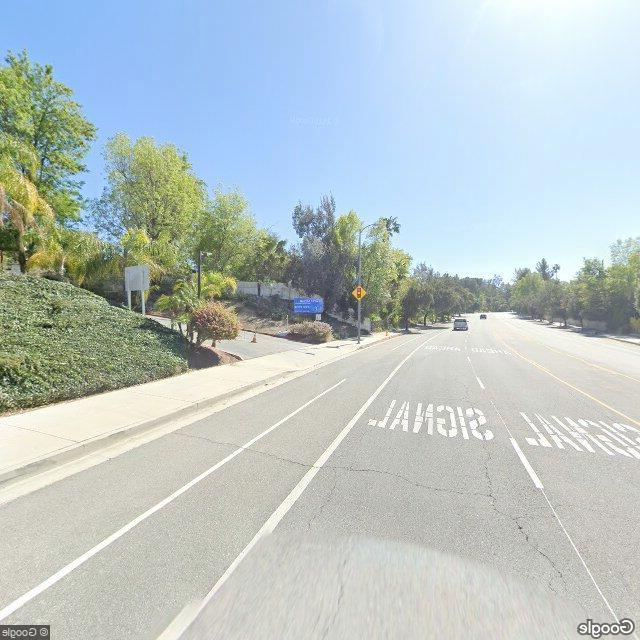crack: (176, 429, 489, 504), (475, 450, 571, 592), (308, 472, 343, 530)
